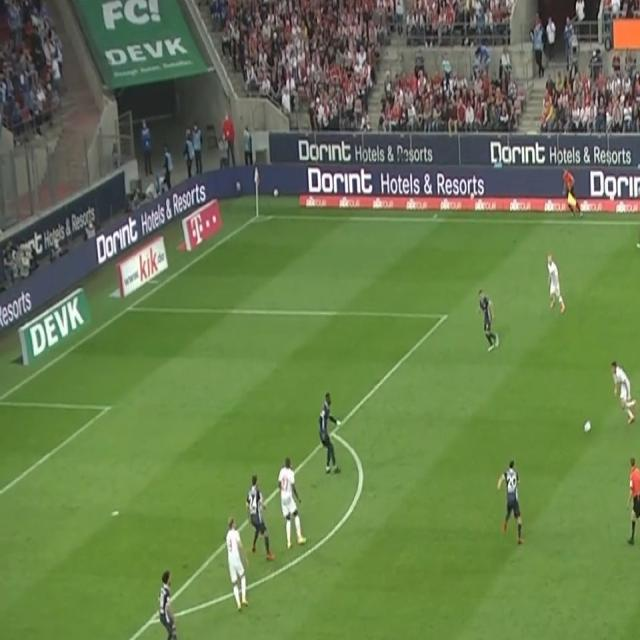ball: (584, 417, 592, 434)
